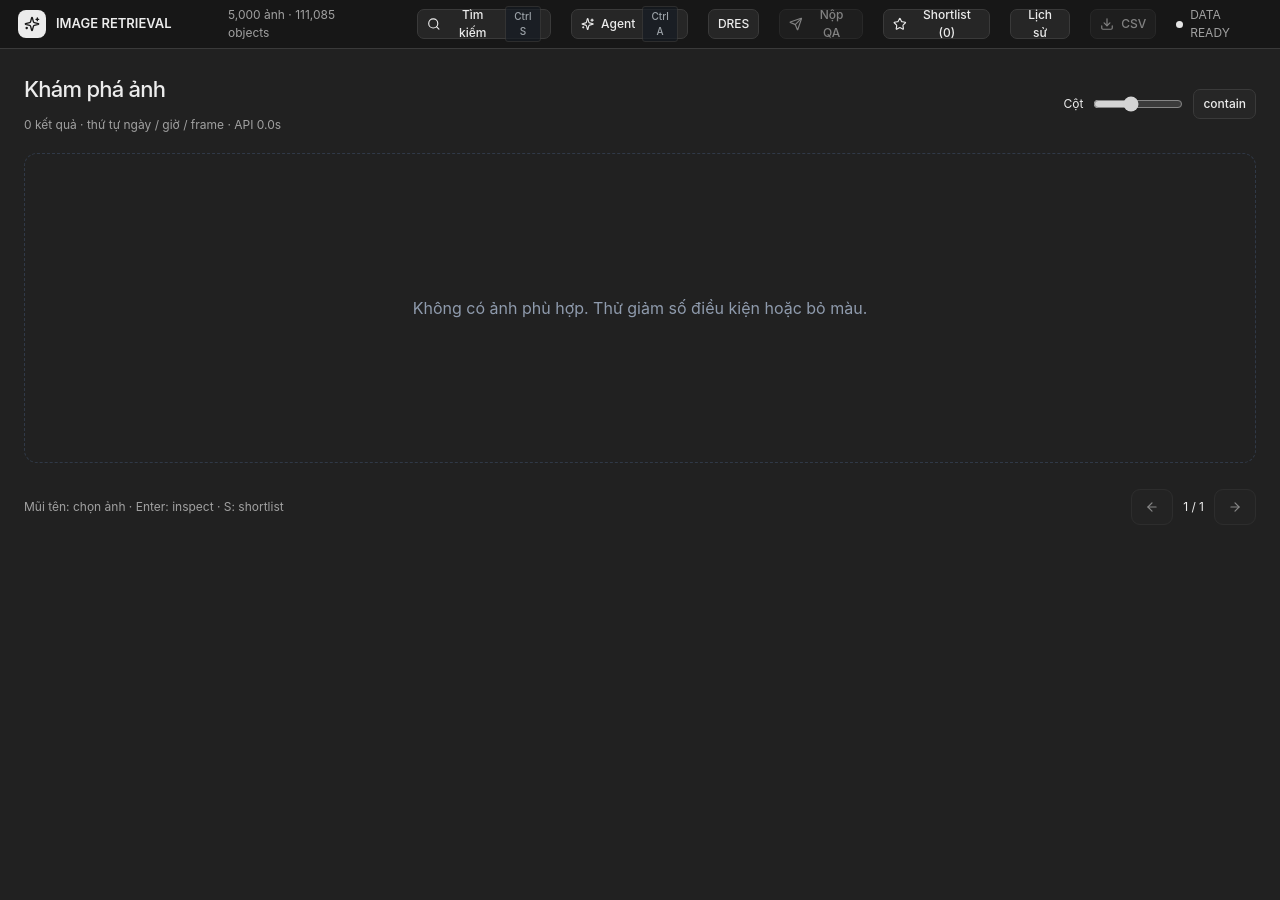
it: image workbench entry and shortcuts › keeps user and assistant turns when chat is collapsed and reopened
The image size is (1280, 900).
Check: the heading "Khám phá ảnh" is shown, box [24, 76, 165, 102]
Press a
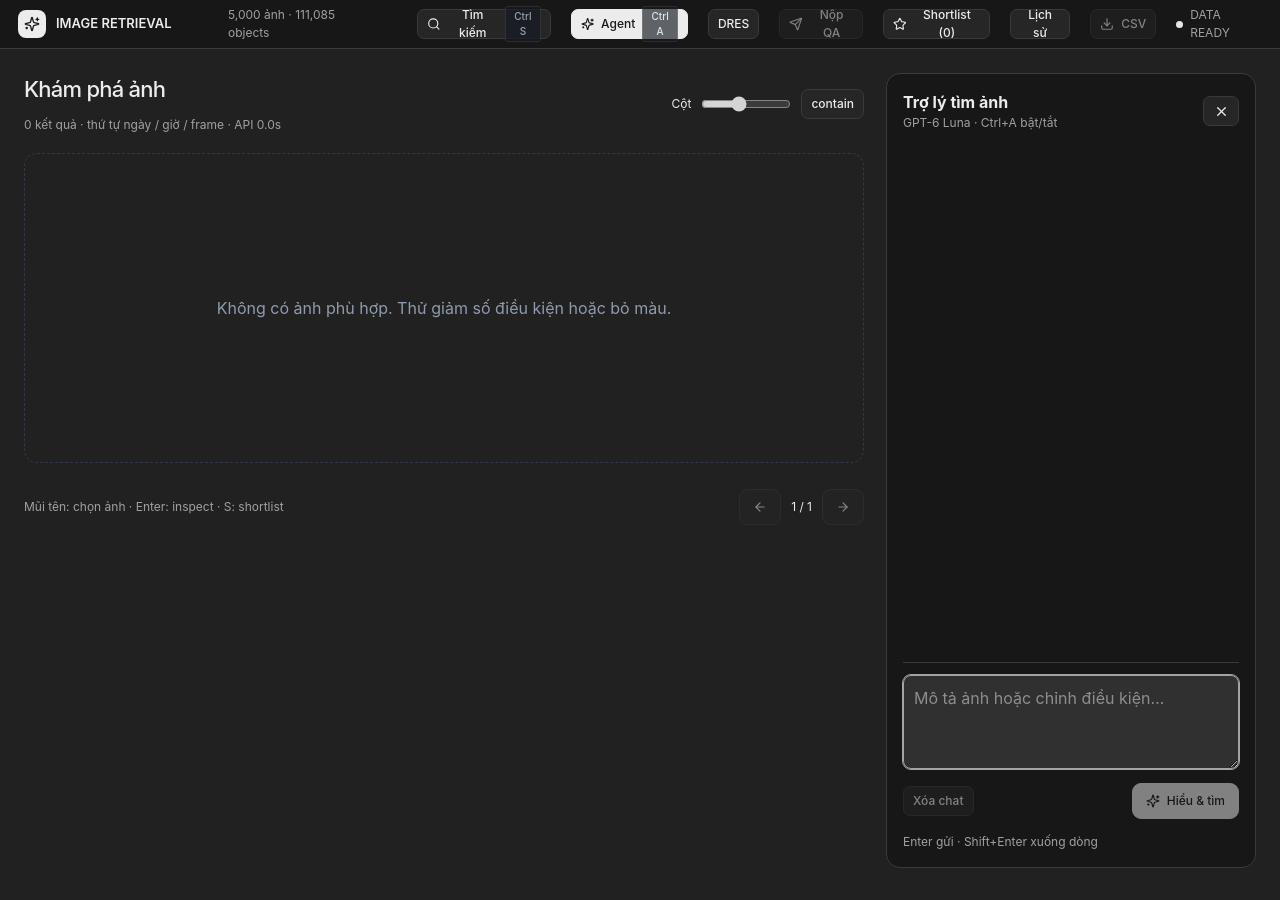
In the text box named "Yêu cầu agent": point(1071, 722) [903, 675, 1239, 769], type "đúng 2 người"
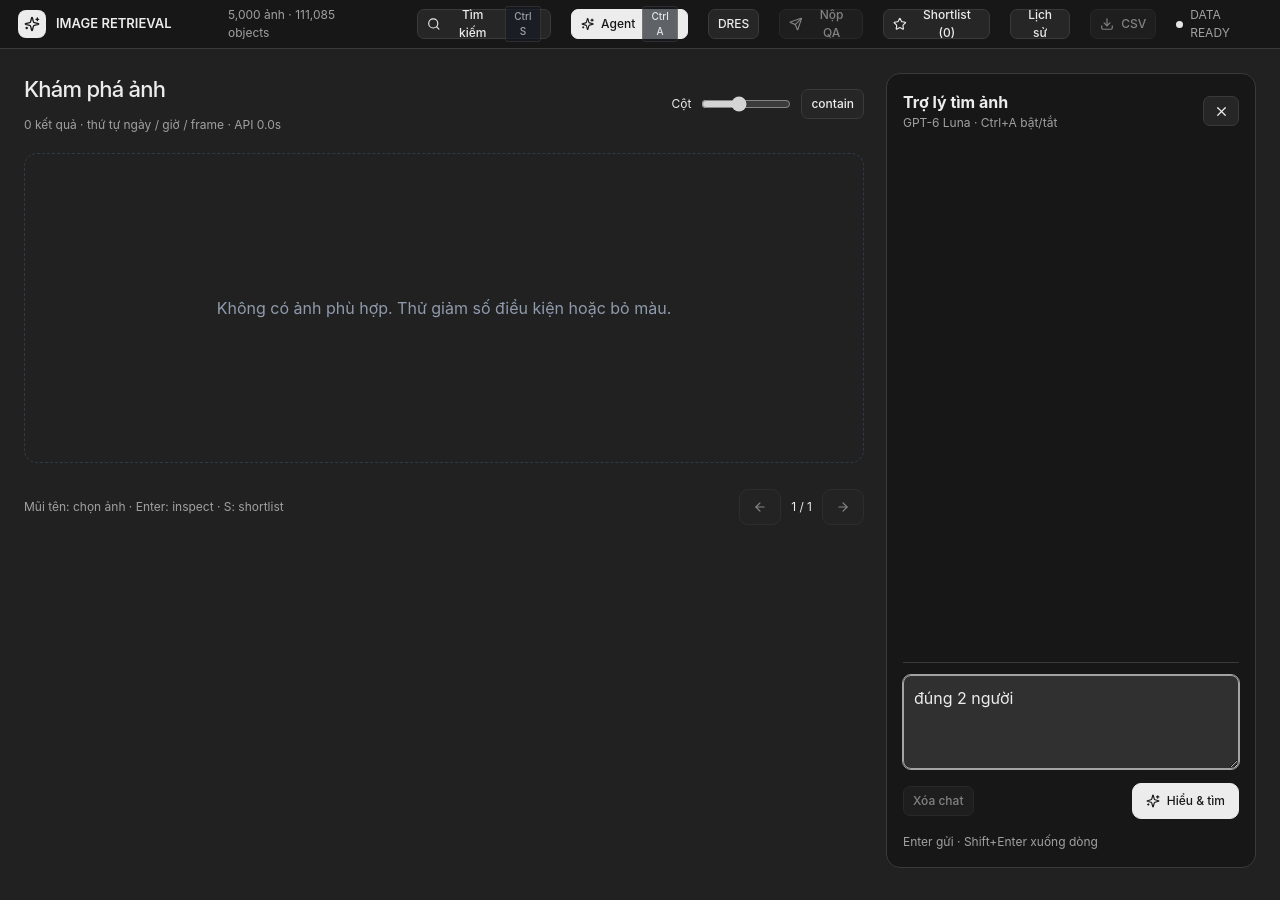
Press Enter in the text box named "Yêu cầu agent", box [903, 675, 1239, 769]
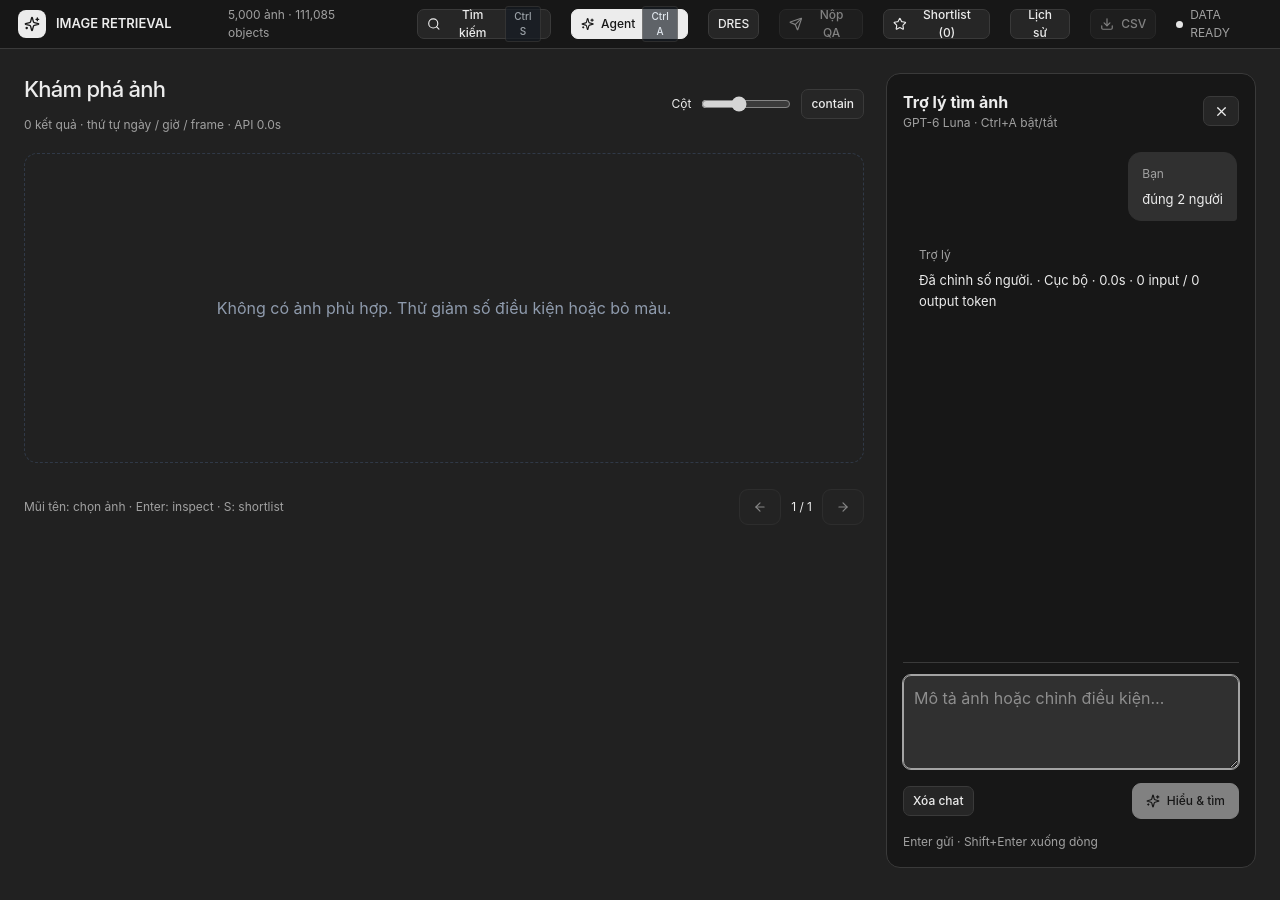
Check: the text "Đã chỉnh số người" is shown, box [919, 272, 1203, 309]
Check: the element named "Hội thoại tìm kiếm" shows "đúng 2 người", box [1142, 190, 1223, 206]
Press a in the text box named "Yêu cầu agent", box [903, 675, 1239, 769]
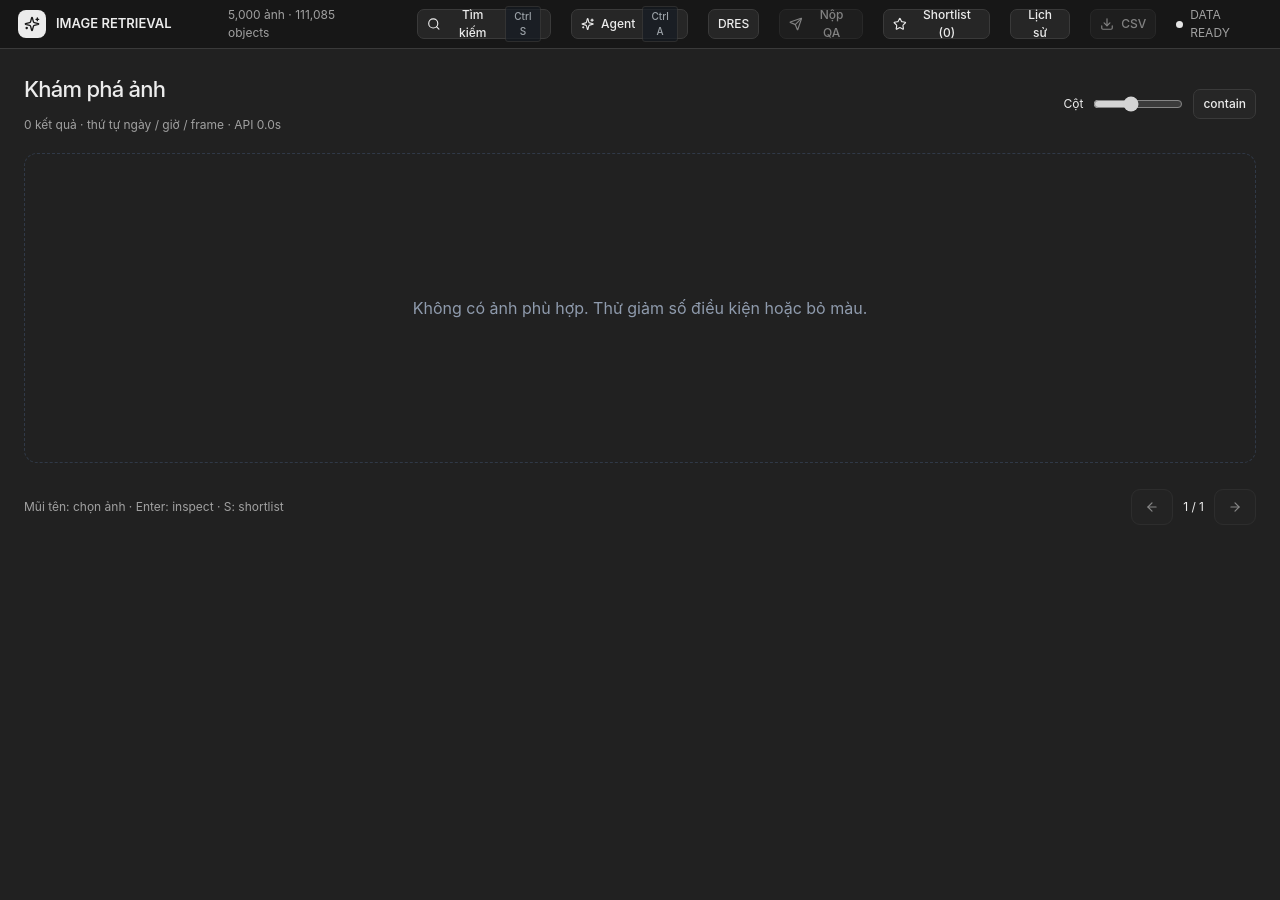
Press a
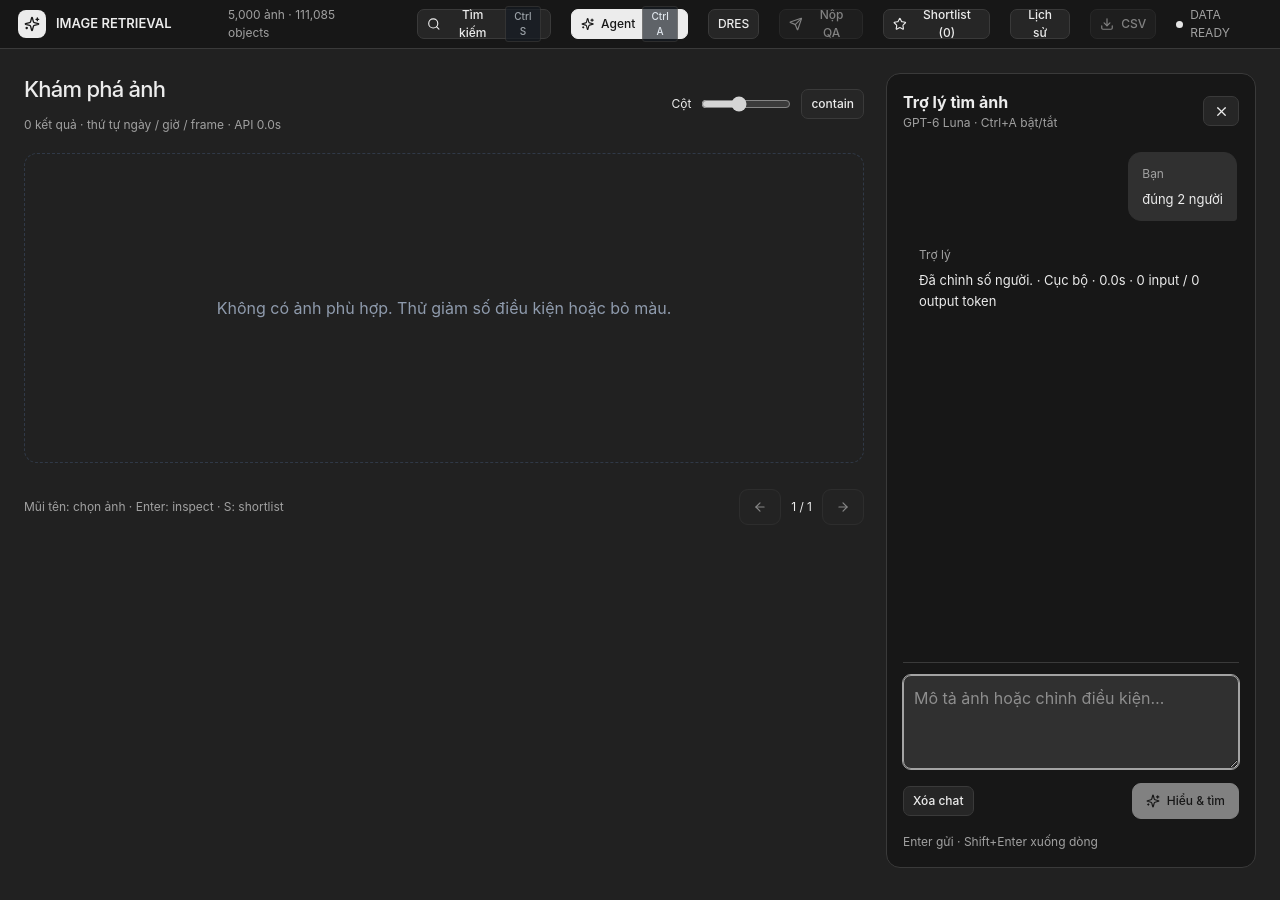
Check: the element named "Hội thoại tìm kiếm" shows "Đã chỉnh số người", box [919, 272, 1203, 309]
